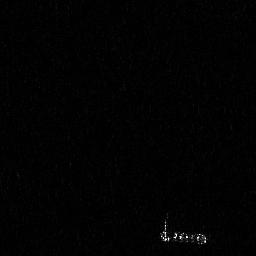ship: (157, 213, 210, 246)
